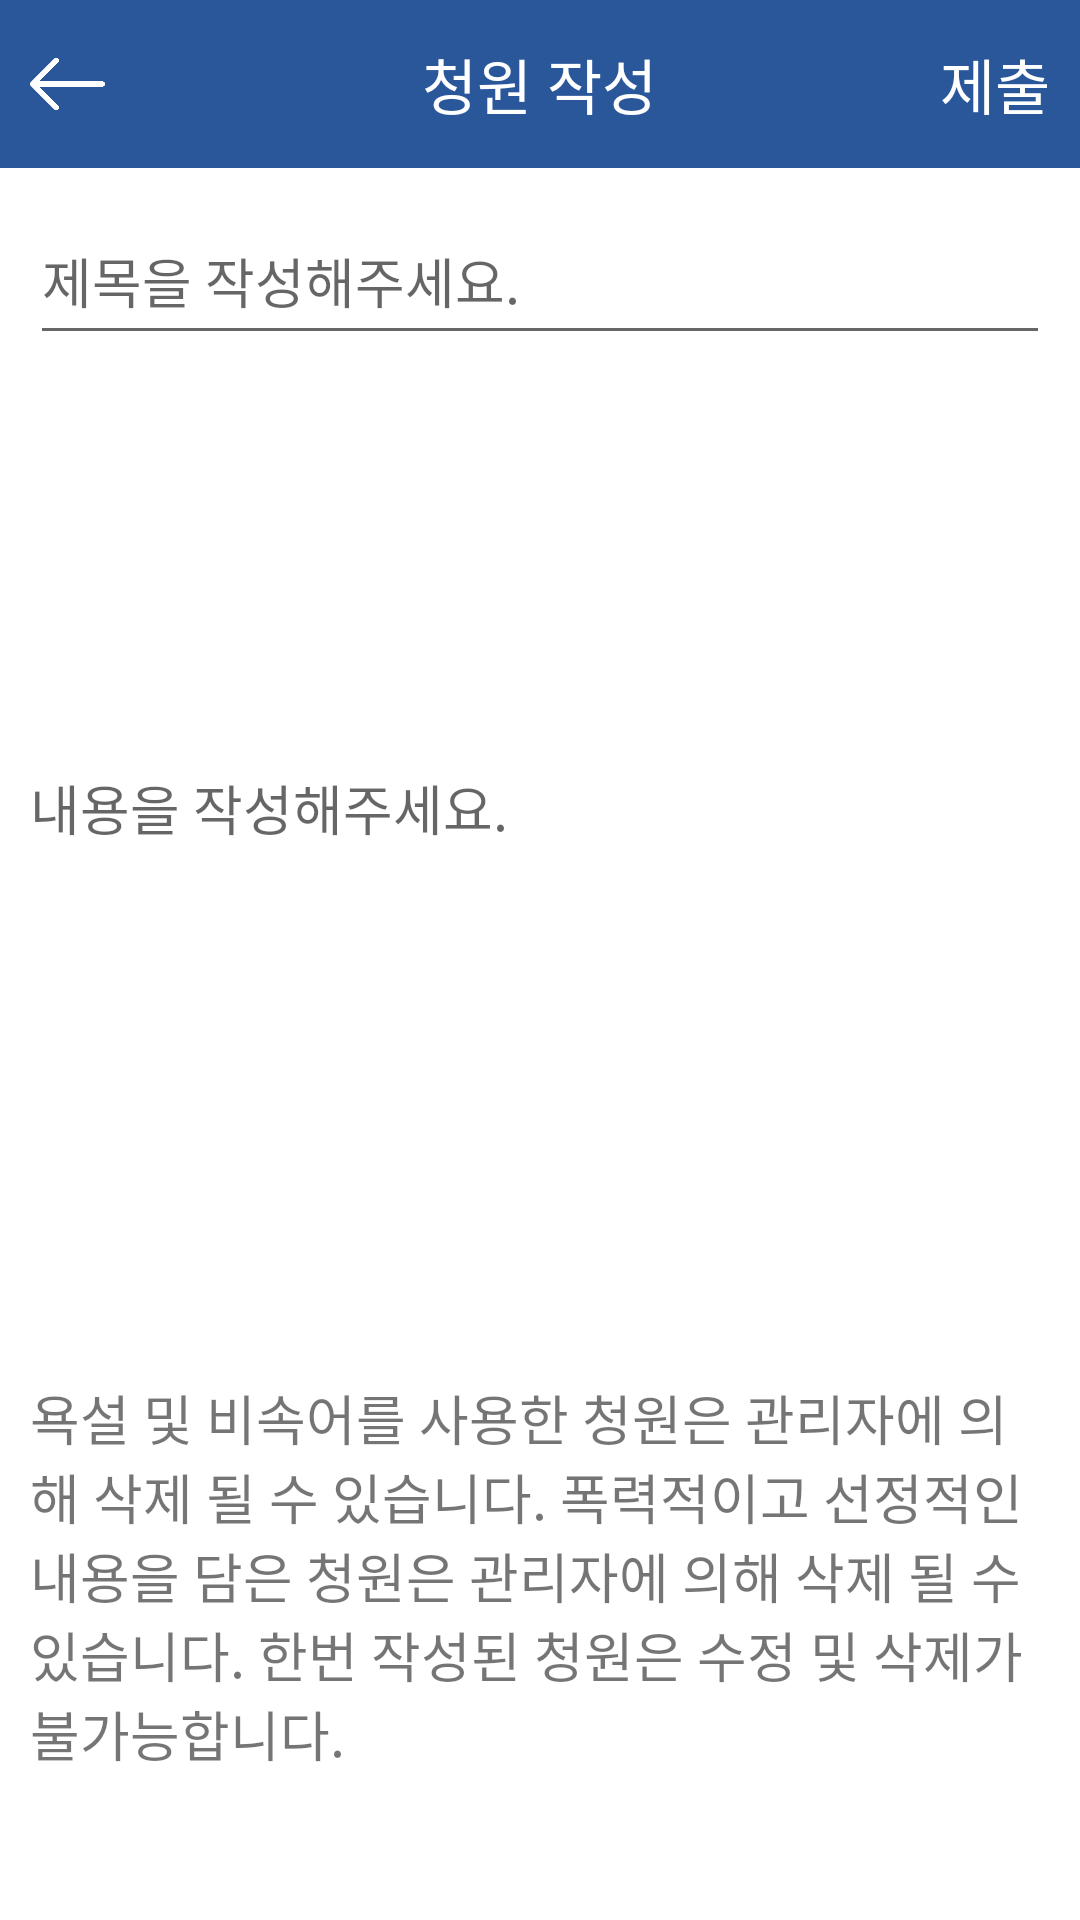

Where icons sit on this 1080*1920 app screen, as rect(x1, y1, x2, y2):
back: rect(30, 58, 105, 110)
